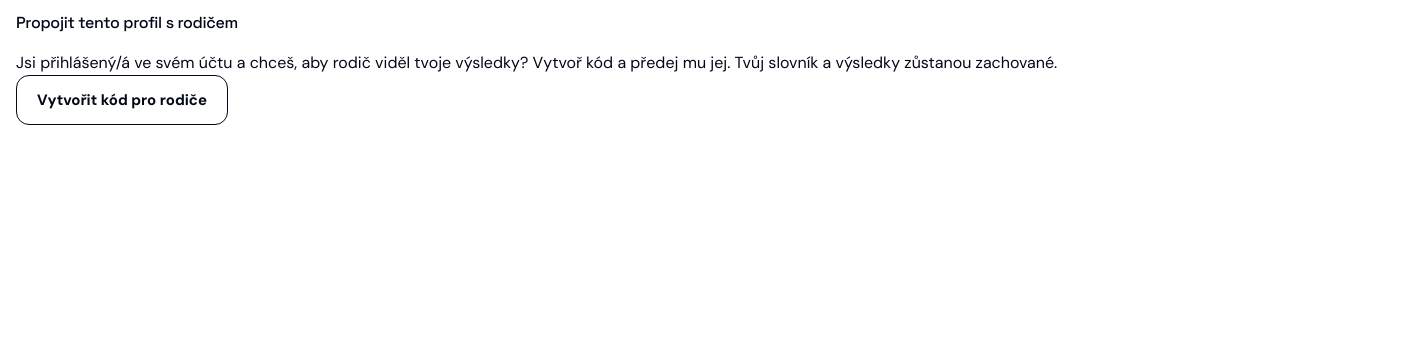
offers a visible parent-link code and preserves the existing learner identity
Click the button "Vytvořit kód pro rodiče" at (122, 100), box [16,75,228,125]
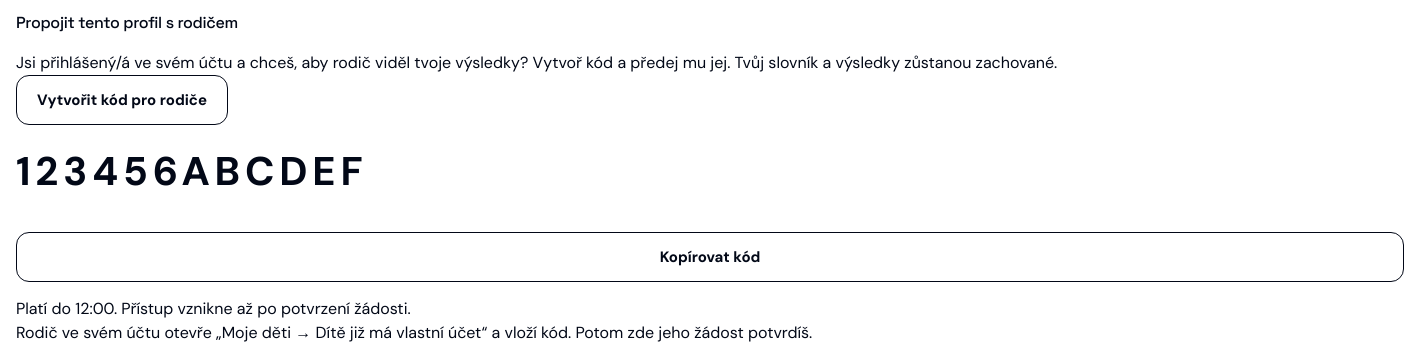
Now the text "123456ABCDEF" is shown, box [16,145,368,197]
Now the button "Kopírovat kód" is shown, box [16,232,1404,282]
